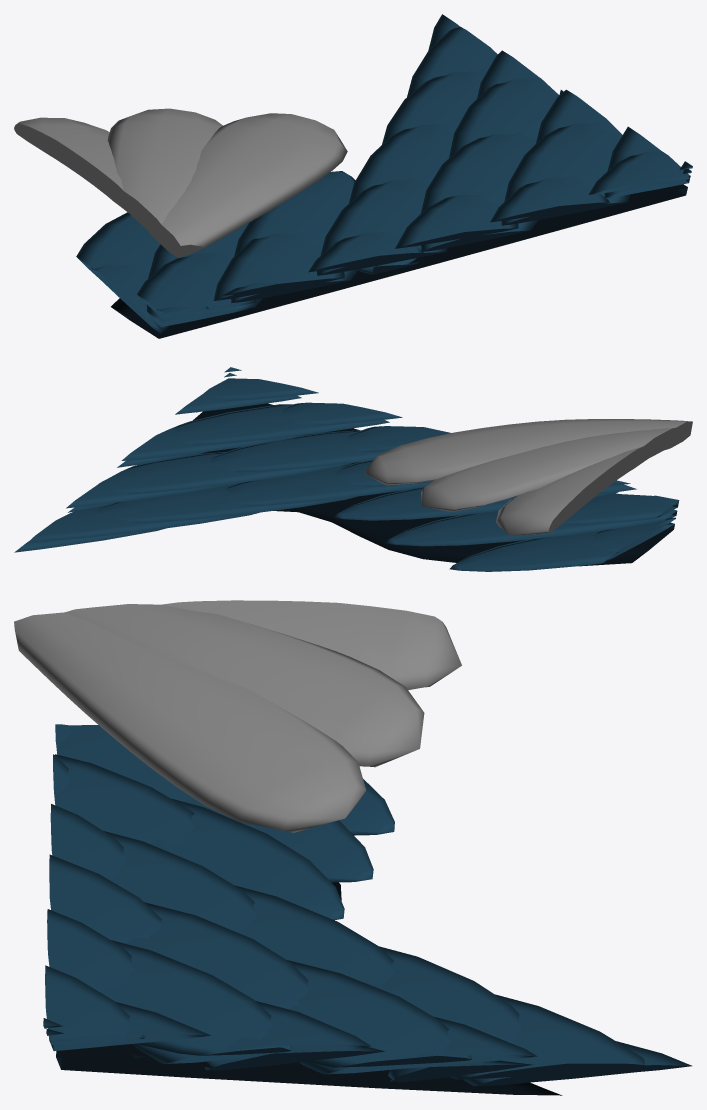
The model's file is gryphon_49.glb.
3 views of the same model, one above another, from view 1: azimuth 30°, elevation 25°; view 2: azimuth 150°, elevation 25°; view 3: azimuth 270°, elevation 25° (orthographic). The views are drawn at different scales.
Parts seen in each view (by area): view 1: gryphon_49; view 2: gryphon_49; view 3: gryphon_49.
Part boxes in pixels (x1=…): gryphon_49: x1=14, y1=14, x2=692, y2=338; gryphon_49: x1=14, y1=367, x2=692, y2=571; gryphon_49: x1=14, y1=600, x2=691, y2=1095.
Bounding box in the file's own units: 24 × 5.67 × 20.81.
